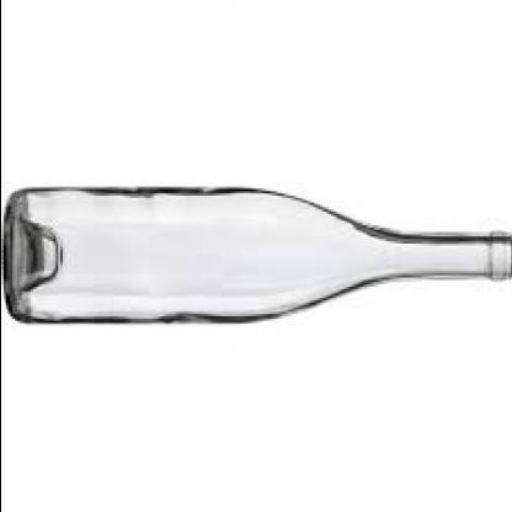glass: (2, 186, 511, 321)
